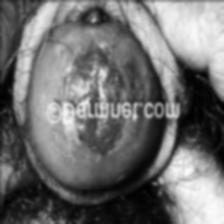Potentially Malignant Skin Tumors: (63, 46, 121, 100), (82, 3, 104, 31)
